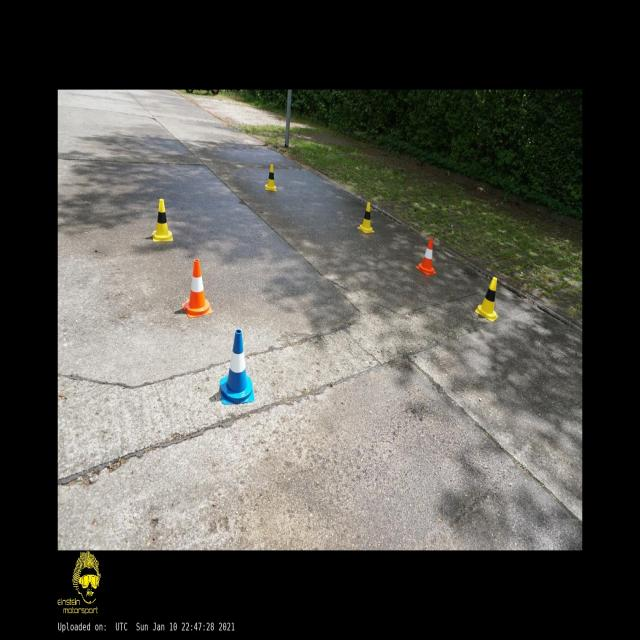blue_cone: (220, 329, 254, 404)
orange_cone: (182, 259, 213, 319), (416, 238, 437, 275)
yellow_cone: (476, 277, 498, 322), (152, 199, 173, 241), (357, 202, 375, 233), (264, 164, 276, 190)
